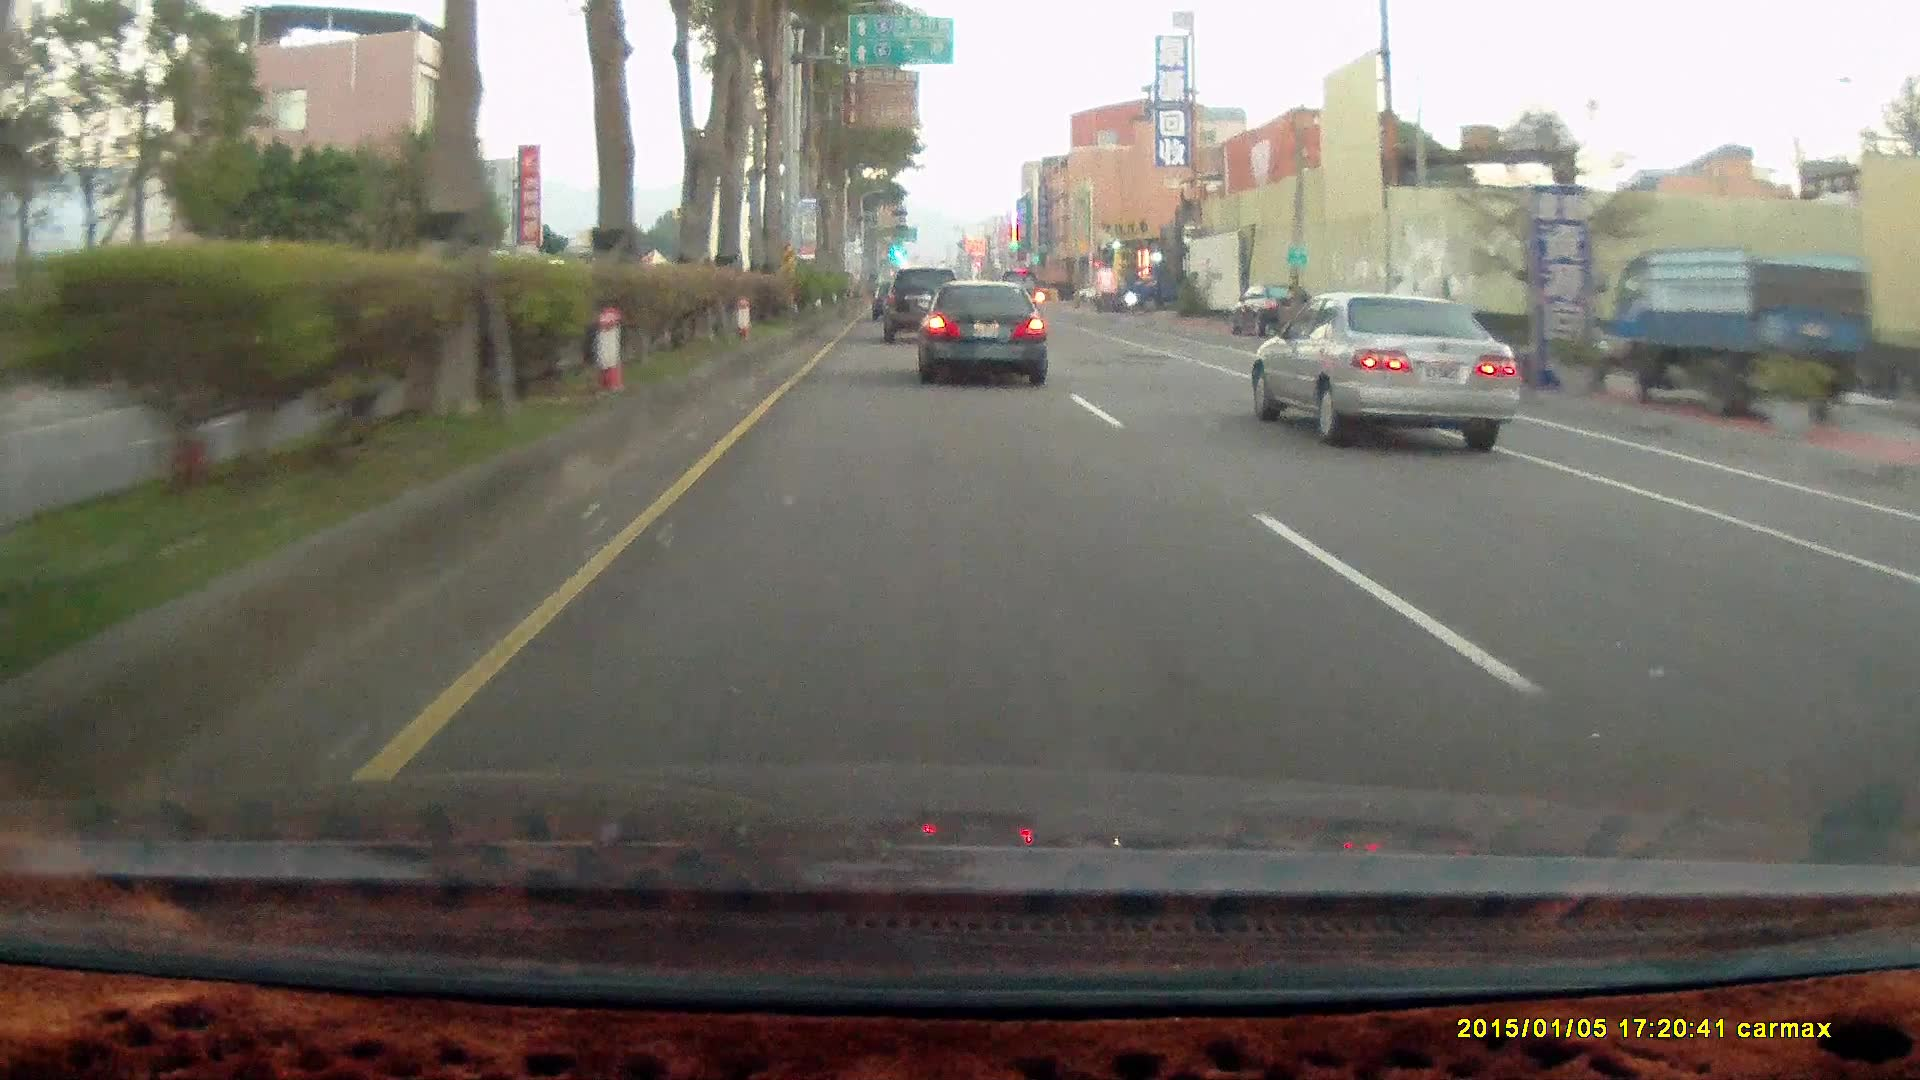vehicle: (1602, 247, 1874, 422), (1249, 291, 1520, 454), (1266, 297, 1535, 459), (914, 280, 1047, 385), (916, 286, 1048, 390), (884, 266, 963, 347), (1124, 268, 1201, 315)
